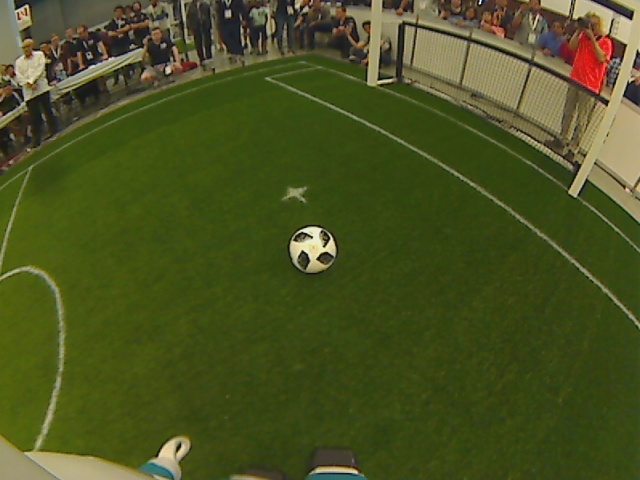ball: (287, 225, 339, 273)
